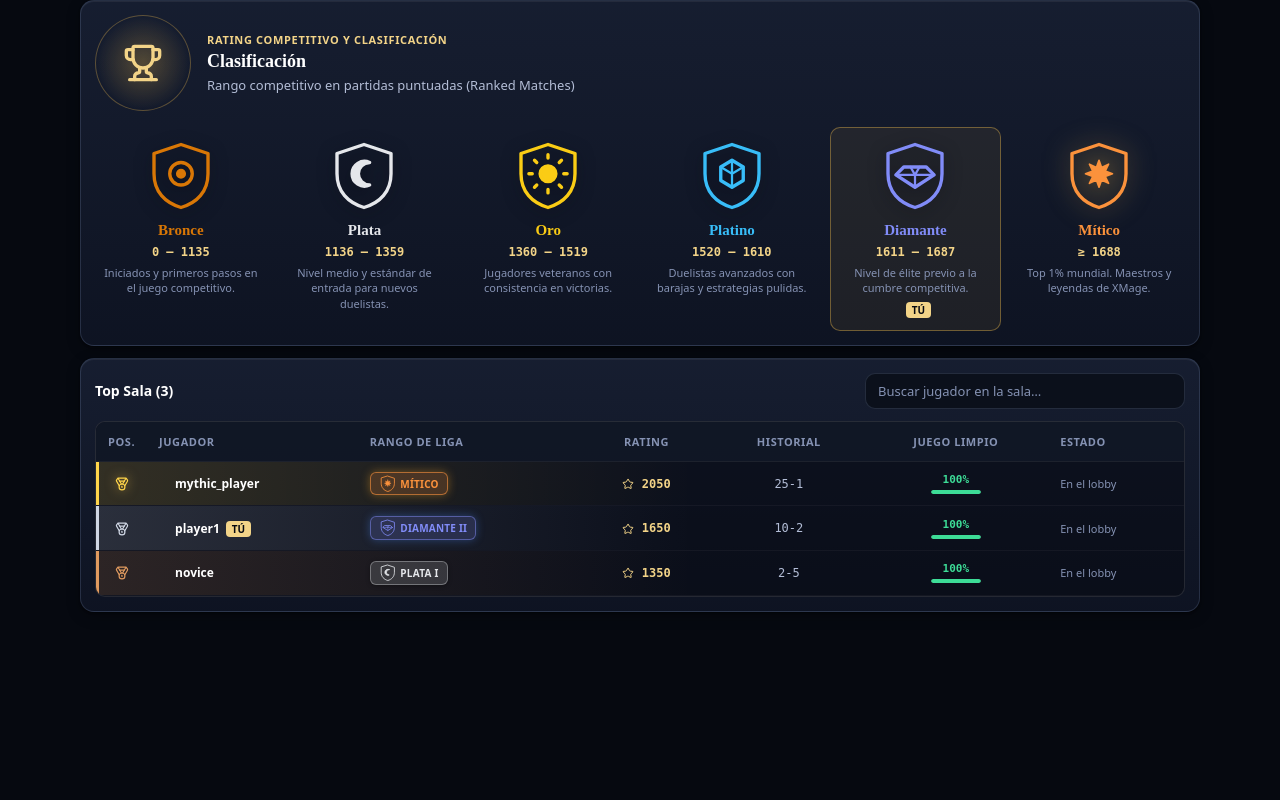
Scenario: RankingView Component › filters the room by search query
Step 1. Type "mythic" into the field with placeholder "Buscar jugador en la sala…" → (1025, 391), box [865,373,1185,409]
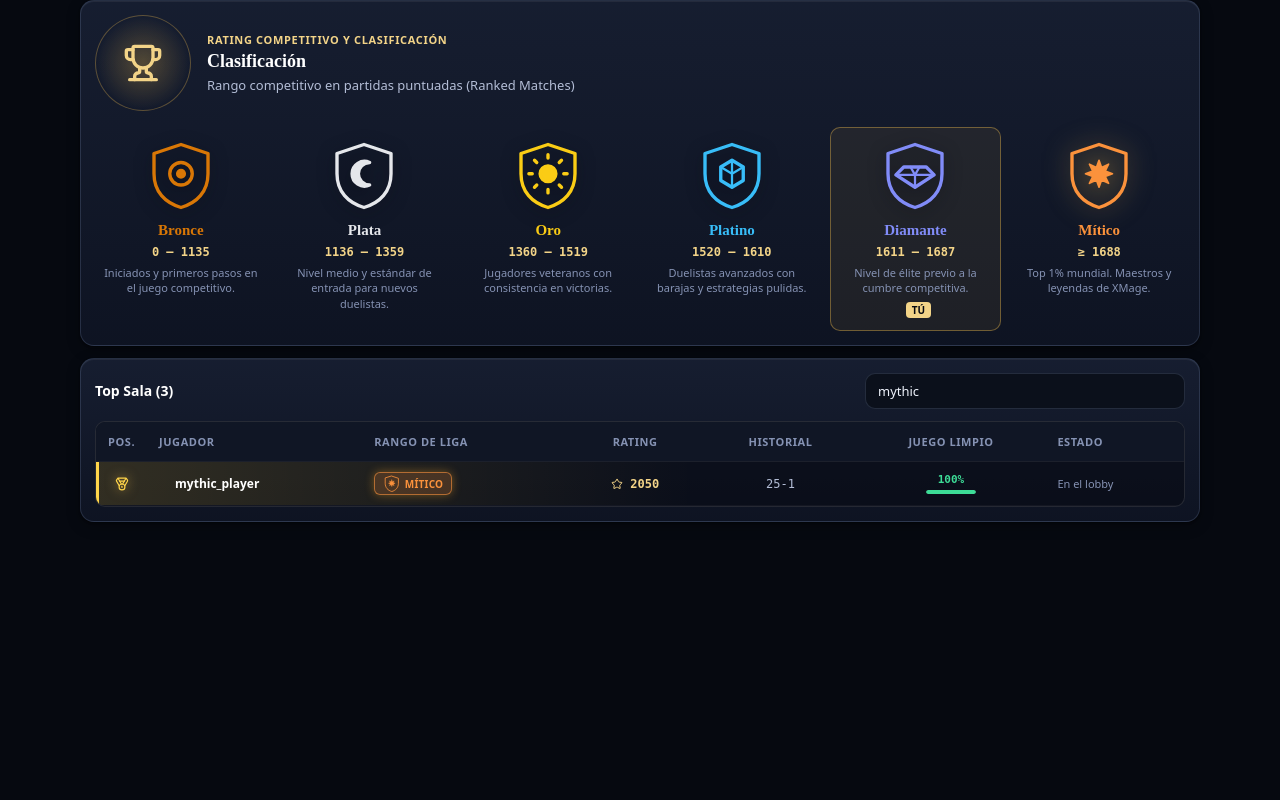
expect the text "mythic_player" is shown: met, box [175,475,259,492]
expect the text "novice" is gone: met
